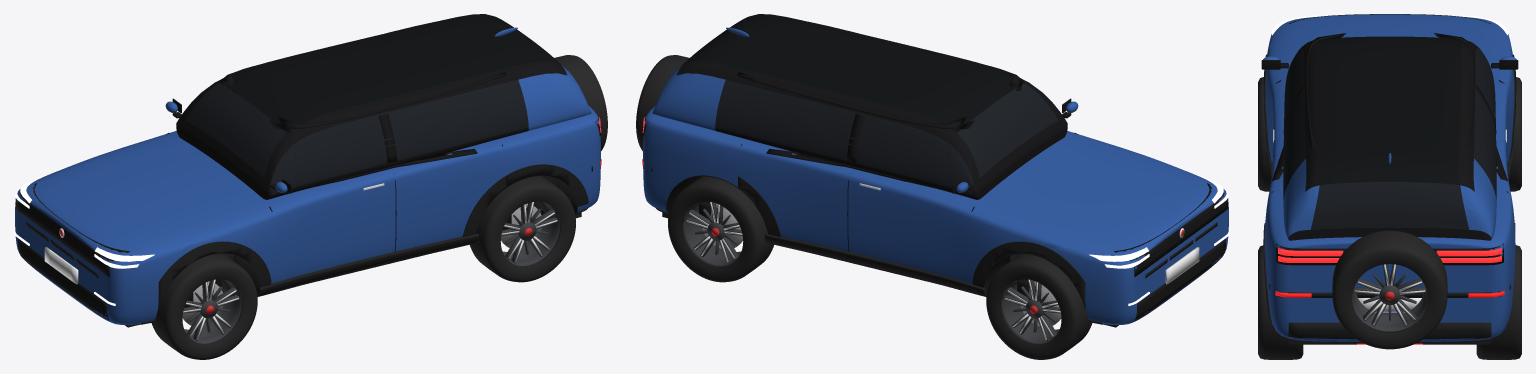
File: trail.glb
3 renders of one model, left to right at view 1: azimuth 30°, elevation 25°; view 2: azimuth 150°, elevation 25°; view 3: azimuth 270°, elevation 25°, orthographic. The views are drawn at different scales.
Parts seen in each view (by area): view 1: roof_glass.009, side_windows_left_glass.009, hood_panel.009, door_front_left_panel.009, door_rear_left_panel.006, bumper_front_panel.009, wheel_front_left_tire.009, wheel_rear_left_tire.009, fender_rear_left_panel.009, fender_front_left_panel.009, windshield_glass.009, arch_clad_rear_left.006 (+17 smaller); view 2: roof_glass.009, side_windows_right_glass.009, hood_panel.009, door_front_right_panel.009, door_rear_right_panel.006, bumper_front_panel.009, fender_rear_right_panel.009, wheel_front_right_tire.009, wheel_rear_right_tire.009, fender_front_right_panel.009, windshield_glass.009, side_skirt_right.009 (+17 smaller); view 3: roof_glass.009, spare_wheel_rear_left_tire, rear_window_glass.009, trunk_panel.009, side_windows_left_glass.009, side_windows_right_glass.009, hood_panel.009, fender_rear_right_panel.009, fender_rear_left_panel.009, diffuser.027, wheel_rear_right_tire.009, wheel_rear_left_tire.009 (+30 smaller).
Part boxes in pixels (<box>): roof_glass.009: <box>219,14,590,132</box>; side_windows_left_glass.009: <box>216,61,591,199</box>; hood_panel.009: <box>37,136,264,249</box>; door_front_left_panel.009: <box>263,169,395,282</box>; door_rear_left_panel.006: <box>390,139,505,251</box>; bumper_front_panel.009: <box>15,174,158,323</box>; wheel_front_left_tire.009: <box>151,254,257,359</box>; wheel_rear_left_tire.009: <box>470,176,575,282</box>; fender_rear_left_panel.009: <box>497,111,600,202</box>; fender_front_left_panel.009: <box>126,201,275,287</box>; windshield_glass.009: <box>185,83,286,177</box>; arch_clad_rear_left.006: <box>462,164,588,236</box>; roof_glass.009: <box>653,14,1024,132</box>; side_windows_right_glass.009: <box>652,61,1027,199</box>; hood_panel.009: <box>979,136,1206,249</box>; door_front_right_panel.009: <box>848,169,980,282</box>; door_rear_right_panel.006: <box>738,139,853,251</box>; bumper_front_panel.009: <box>1085,174,1228,323</box>; fender_rear_right_panel.009: <box>643,111,746,206</box>; wheel_front_right_tire.009: <box>986,254,1092,359</box>; wheel_rear_right_tire.009: <box>668,176,773,282</box>; fender_front_right_panel.009: <box>968,201,1117,283</box>; windshield_glass.009: <box>957,83,1058,177</box>; side_skirt_right.009: <box>764,233,986,296</box>; roof_glass.009: <box>1283,36,1496,239</box>; spare_wheel_rear_left_tire: <box>1332,230,1447,349</box>; rear_window_glass.009: <box>1310,182,1469,229</box>; trunk_panel.009: <box>1294,237,1485,322</box>; side_windows_left_glass.009: <box>1283,41,1389,240</box>; side_windows_right_glass.009: <box>1390,41,1496,240</box>; hood_panel.009: <box>1294,14,1485,55</box>; fender_rear_right_panel.009: <box>1485,190,1515,331</box>; fender_rear_left_panel.009: <box>1264,190,1294,331</box>; diffuser.027: <box>1288,322,1491,343</box>; wheel_rear_right_tire.009: <box>1476,245,1521,359</box>; wheel_rear_left_tire.009: <box>1258,245,1303,359</box>.
Size of the model in its own units: 4.94 by 1.81 by 1.99.
